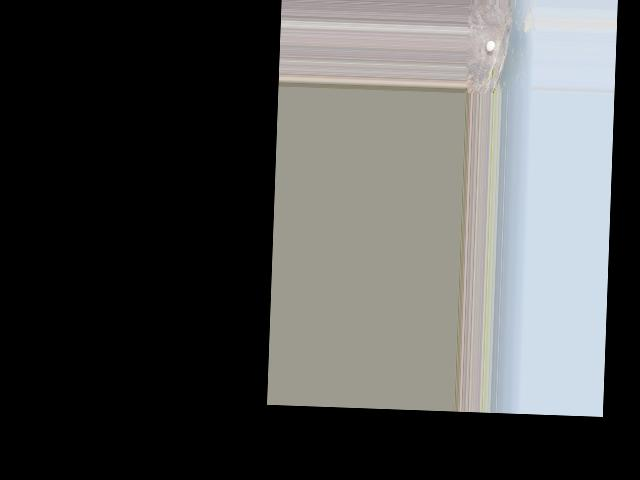egg: (485, 39, 495, 51)
